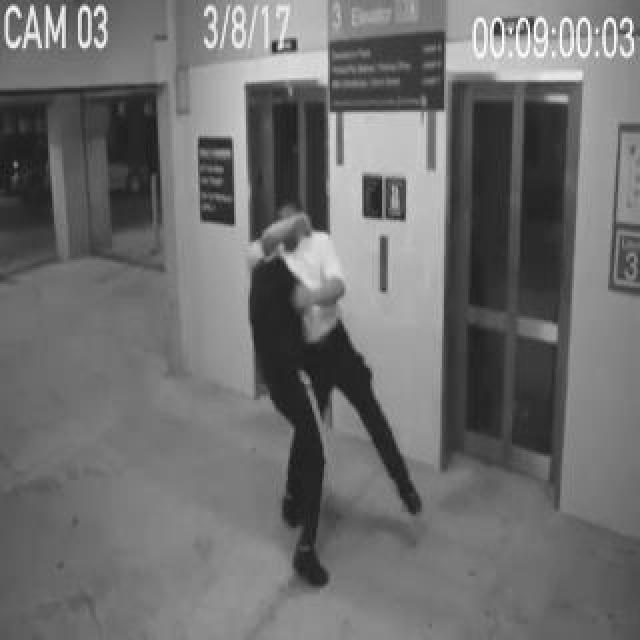fight: (223, 194, 447, 594)
